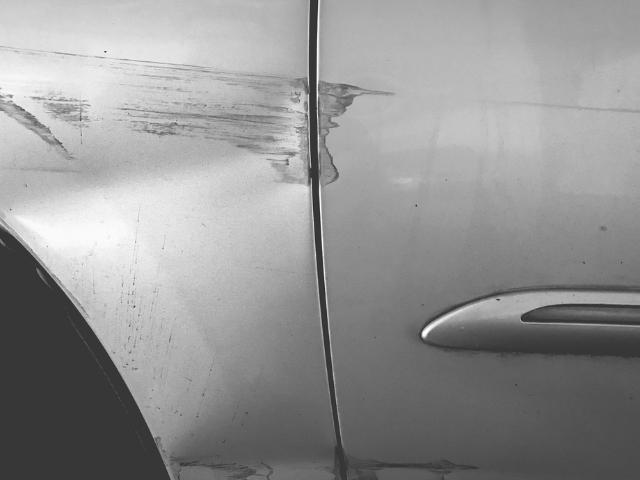Door: (316, 47, 374, 244)
Fender: (0, 34, 313, 349)
